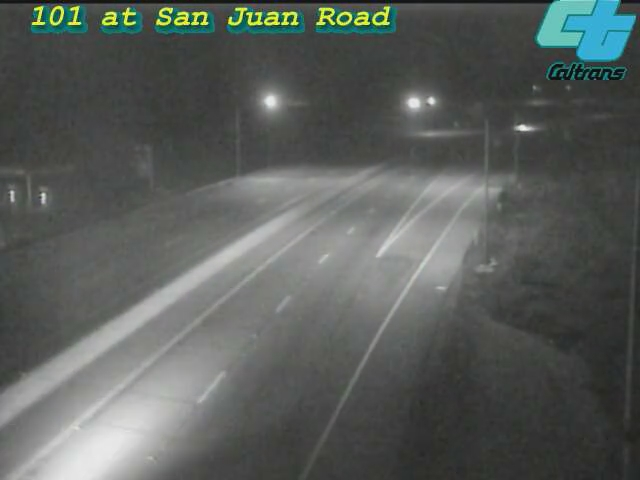vehicle: (498, 101, 548, 151)
